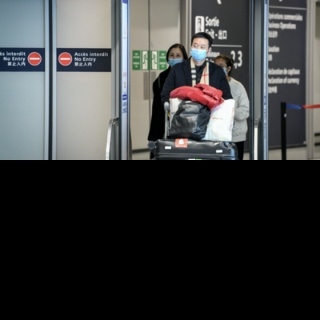with_mask: (190, 42, 208, 61), (167, 51, 185, 67), (216, 61, 228, 76)
